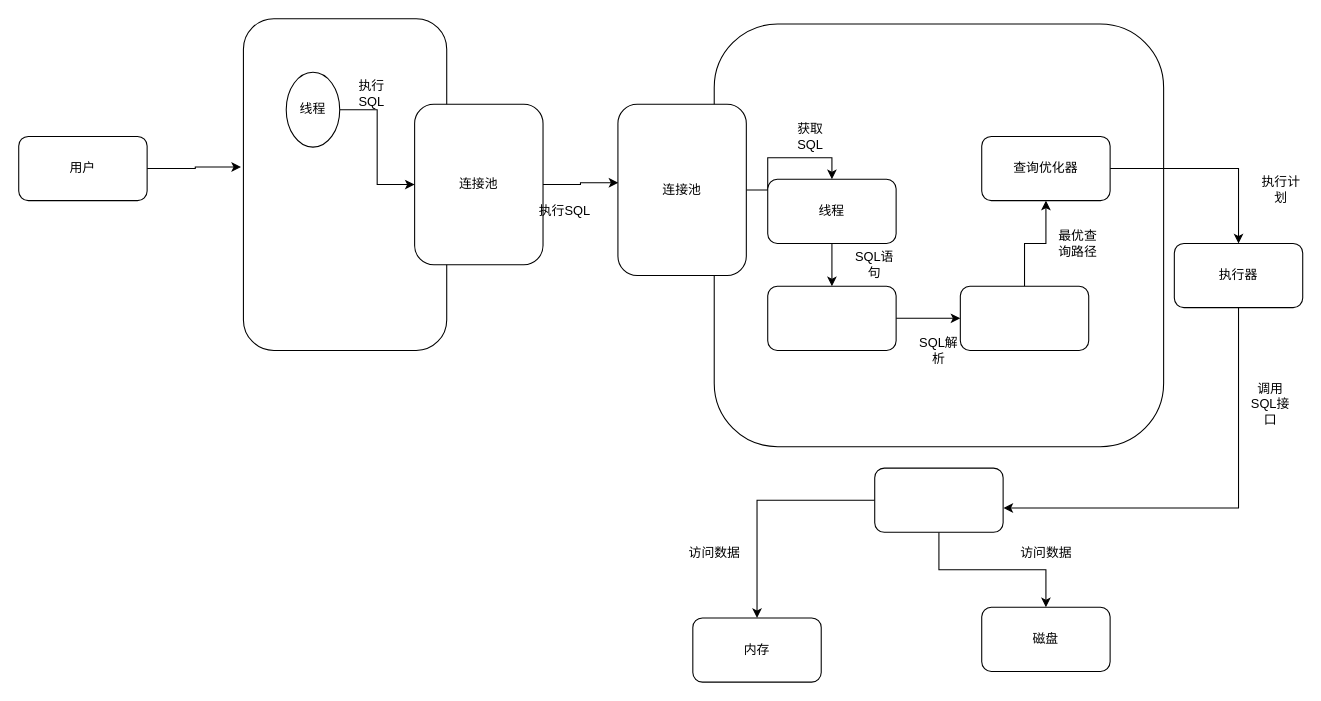
Image size: 1321x701. Some labels were removed from this diagram. Each missing label, with the box of its shape:
mysql服务器: (713, 23, 1164, 447)
SQL接口: (767, 285, 896, 350)
SQL解析器: (959, 285, 1089, 350)
tomcat: (242, 18, 447, 350)
存储引擎: (874, 467, 1003, 532)
